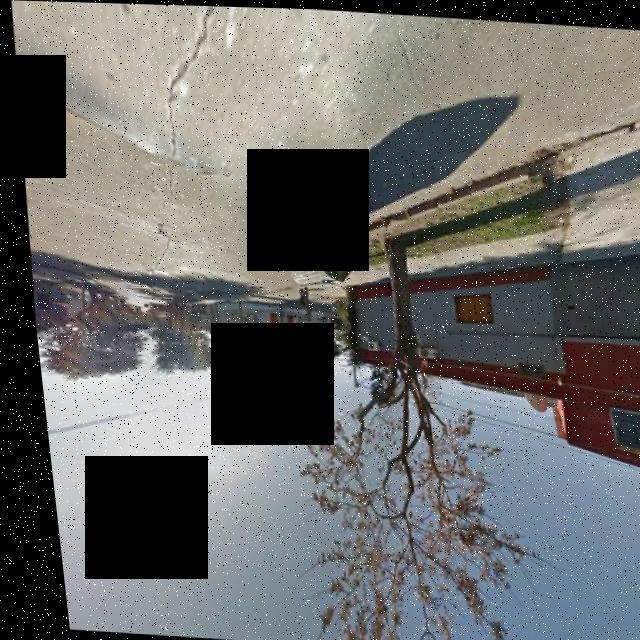bin: (265, 200, 364, 295)
